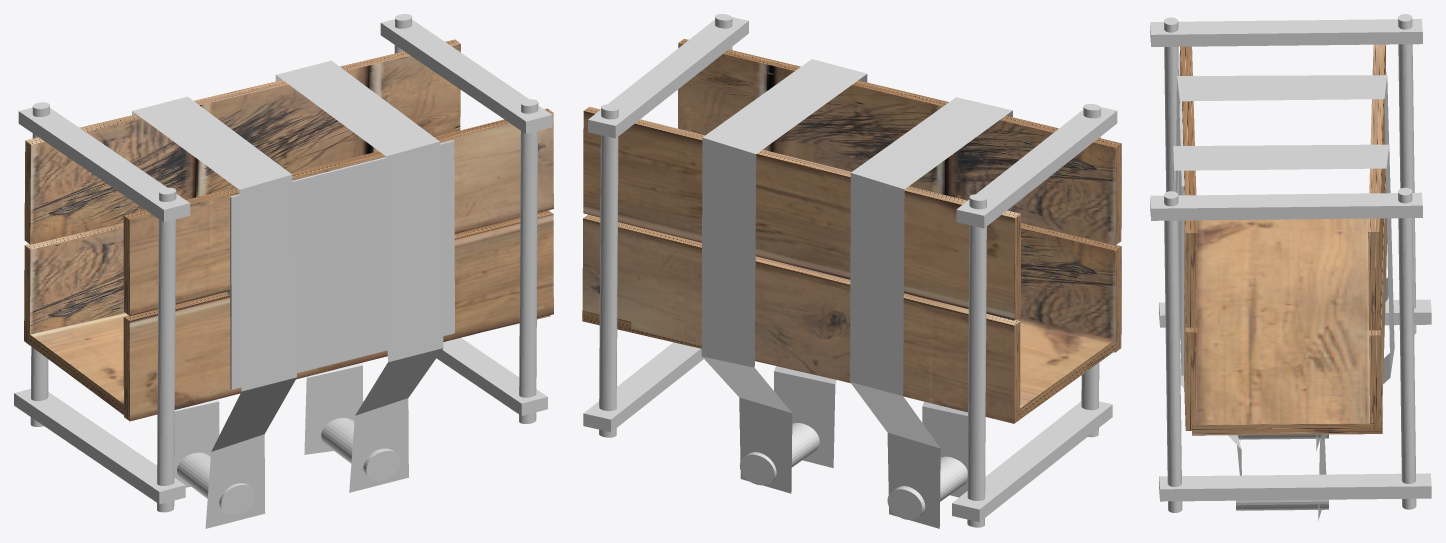
The model's file is kreplenie.fbx.
3 renders of one model, left to right at view 1: azimuth 30°, elevation 25°; view 2: azimuth 150°, elevation 25°; view 3: azimuth 270°, elevation 25°, orthographic. The views are drawn at different scales.
Visible parts, largest first — view 1: Куб.143, Куб.145, Куб.142, Куб.148, Куб.144, Куб.141, Куб.146, Куб.150, Куб.151, Куб.147, Куб.152, Цилиндр.023 (+5 smaller); view 2: Куб.145, Куб.146, Куб.141, Куб.143, Куб.142, Куб.144, Куб.147, Куб.151, Куб.150, Куб.152, Цилиндр.021, Цилиндр.022 (+4 smaller); view 3: Куб.147, Куб.143, Куб.150, Куб.151, Куб.149, Куб.142, Цилиндр.020, Цилиндр.021, Куб.145, Куб.141, Цилиндр.022, Цилиндр.023 (+6 smaller).
Boxes of the visible parts, bbox=[...] form: Куб.143: bbox=[275, 60, 443, 492]; Куб.145: bbox=[24, 39, 460, 244]; Куб.142: bbox=[132, 96, 296, 528]; Куб.148: bbox=[227, 140, 454, 389]; Куб.144: bbox=[123, 210, 553, 421]; Куб.141: bbox=[123, 108, 553, 315]; Куб.146: bbox=[24, 223, 124, 345]; Куб.150: bbox=[380, 19, 552, 133]; Куб.151: bbox=[18, 107, 190, 222]; Куб.147: bbox=[27, 313, 550, 414]; Куб.152: bbox=[14, 389, 185, 504]; Цилиндр.023: bbox=[157, 187, 176, 512]; Куб.145: bbox=[583, 107, 1020, 320]; Куб.146: bbox=[582, 214, 1020, 423]; Куб.141: bbox=[678, 38, 1121, 245]; Куб.143: bbox=[701, 59, 867, 493]; Куб.142: bbox=[850, 97, 1012, 528]; Куб.144: bbox=[1019, 223, 1121, 352]; Куб.147: bbox=[582, 310, 1115, 421]; Куб.151: bbox=[956, 107, 1117, 228]; Куб.150: bbox=[588, 17, 748, 138]; Куб.152: bbox=[952, 401, 1112, 521]; Цилиндр.021: bbox=[599, 104, 618, 437]; Цилиндр.022: bbox=[967, 194, 986, 527]; Куб.147: bbox=[1192, 218, 1382, 435]; Куб.143: bbox=[1172, 144, 1394, 520]; Куб.150: bbox=[1150, 192, 1422, 220]; Куб.151: bbox=[1150, 19, 1422, 46]; Куб.149: bbox=[1159, 473, 1431, 501]; Куб.142: bbox=[1175, 75, 1389, 451]; Цилиндр.020: bbox=[1164, 191, 1182, 512]; Цилиндр.021: bbox=[1398, 187, 1416, 509]; Куб.145: bbox=[1368, 44, 1386, 330]; Куб.141: bbox=[1179, 46, 1197, 327]; Цилиндр.022: bbox=[1398, 14, 1416, 334]; Цилиндр.023: bbox=[1164, 17, 1180, 337].
Size of the model in its own units: 107 by 91.09 by 61.92.
